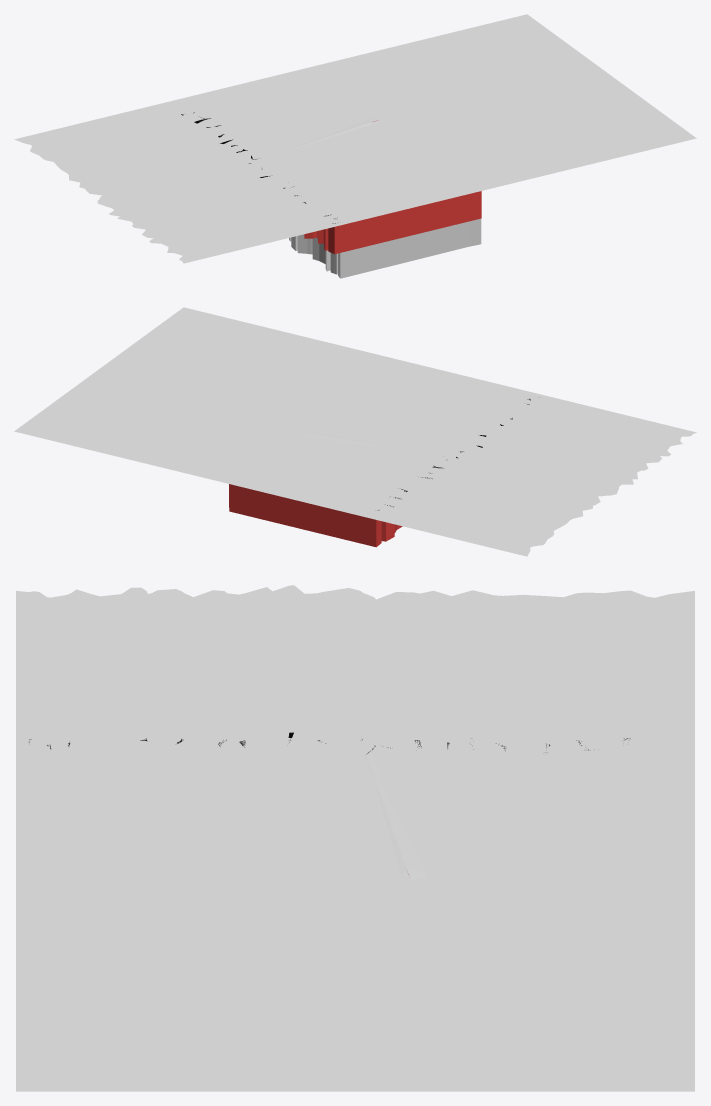
Rendered from newice2.fbx.
The picture shows the model from 3 angles, top to bottom: view 1: azimuth 30°, elevation 25°; view 2: azimuth 150°, elevation 25°; view 3: azimuth 270°, elevation 25°; orthographic projection. The views are drawn at different scales.
Visible parts, largest first — view 1: Plane.007, Plane.005, Plane, Plane.006, Plane.002, Plane.003, Plane.008, Plane.004; view 2: Plane.007, Plane, Plane.006, Plane.005, Plane.002, Plane.004, Plane.008; view 3: Plane.007, Plane, Plane.006, Plane.005, Plane.002, Plane.004, Plane.008.
Part boxes in pixels (left/top/right/bottom): Plane.007: left=14, top=102, right=334, bottom=263; Plane.005: left=381, top=14, right=696, bottom=174; Plane: left=201, top=57, right=517, bottom=217; Plane.006: left=312, top=28, right=638, bottom=190; Plane.002: left=167, top=67, right=481, bottom=254; Plane.003: left=289, top=218, right=481, bottom=278; Plane.008: left=165, top=67, right=474, bottom=243; Plane.004: left=166, top=69, right=478, bottom=225; Plane.007: left=377, top=395, right=696, bottom=556; Plane: left=190, top=351, right=508, bottom=510; Plane.006: left=72, top=321, right=398, bottom=483; Plane.005: left=14, top=307, right=329, bottom=464; Plane.002: left=229, top=360, right=545, bottom=547; Plane.004: left=230, top=363, right=545, bottom=519; Plane.008: left=239, top=362, right=539, bottom=516; Plane.007: left=16, top=585, right=694, bottom=746; Plane: left=20, top=771, right=691, bottom=926; Plane.006: left=16, top=881, right=694, bottom=1038; Plane.005: left=16, top=948, right=694, bottom=1091; Plane.002: left=16, top=728, right=694, bottom=882; Plane.004: left=16, top=738, right=694, bottom=881; Plane.008: left=16, top=732, right=694, bottom=880.
Size of the model in its own units: 9886 by 999 by 5600.
